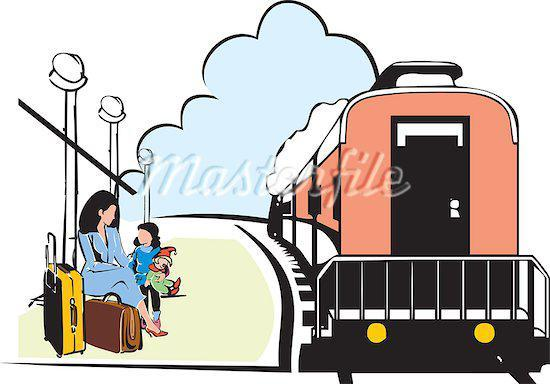person: (67, 186, 168, 343), (124, 219, 163, 290)
train: (248, 66, 545, 373)
